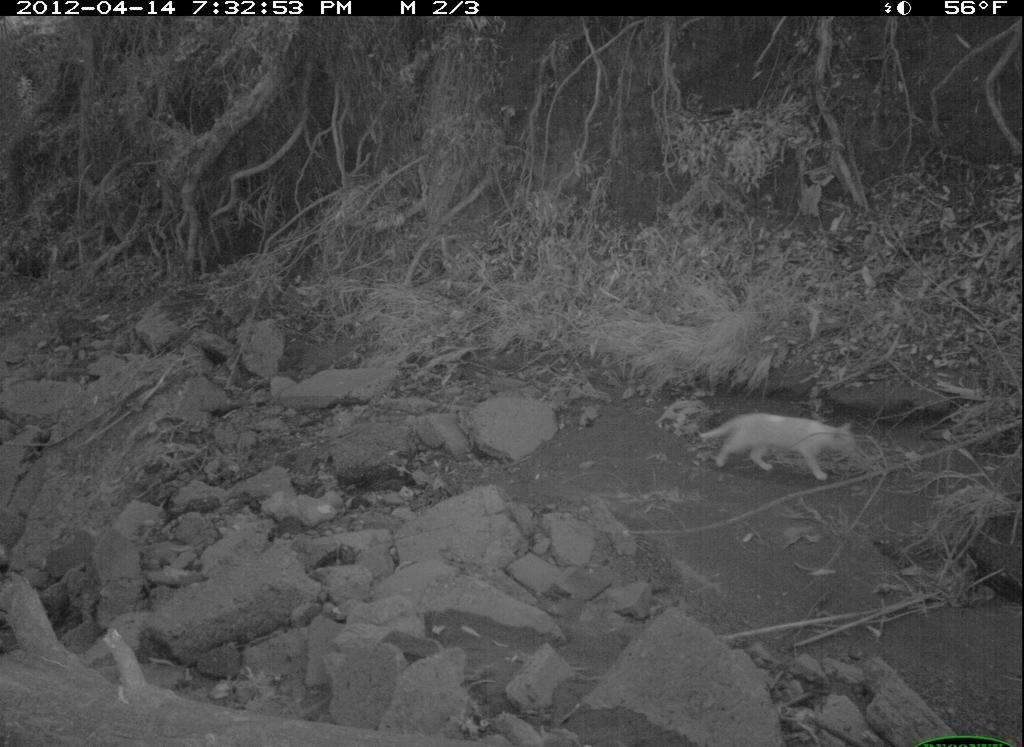cat: (692, 409, 867, 489)
